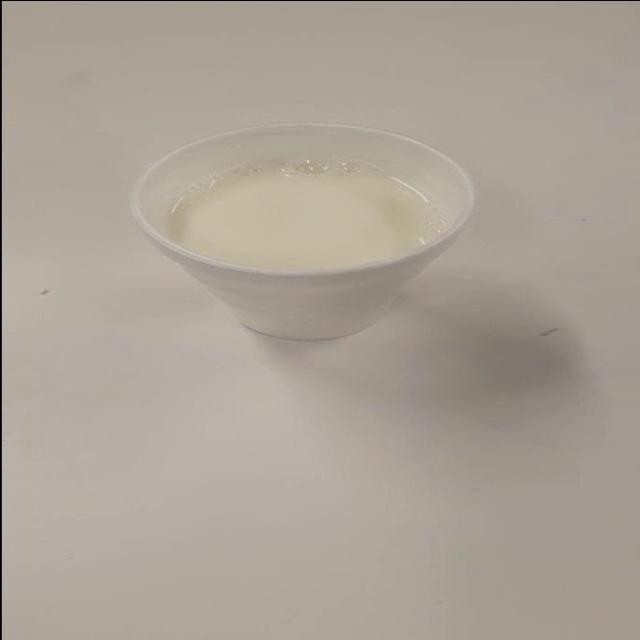Milk: (115, 122, 498, 334)
